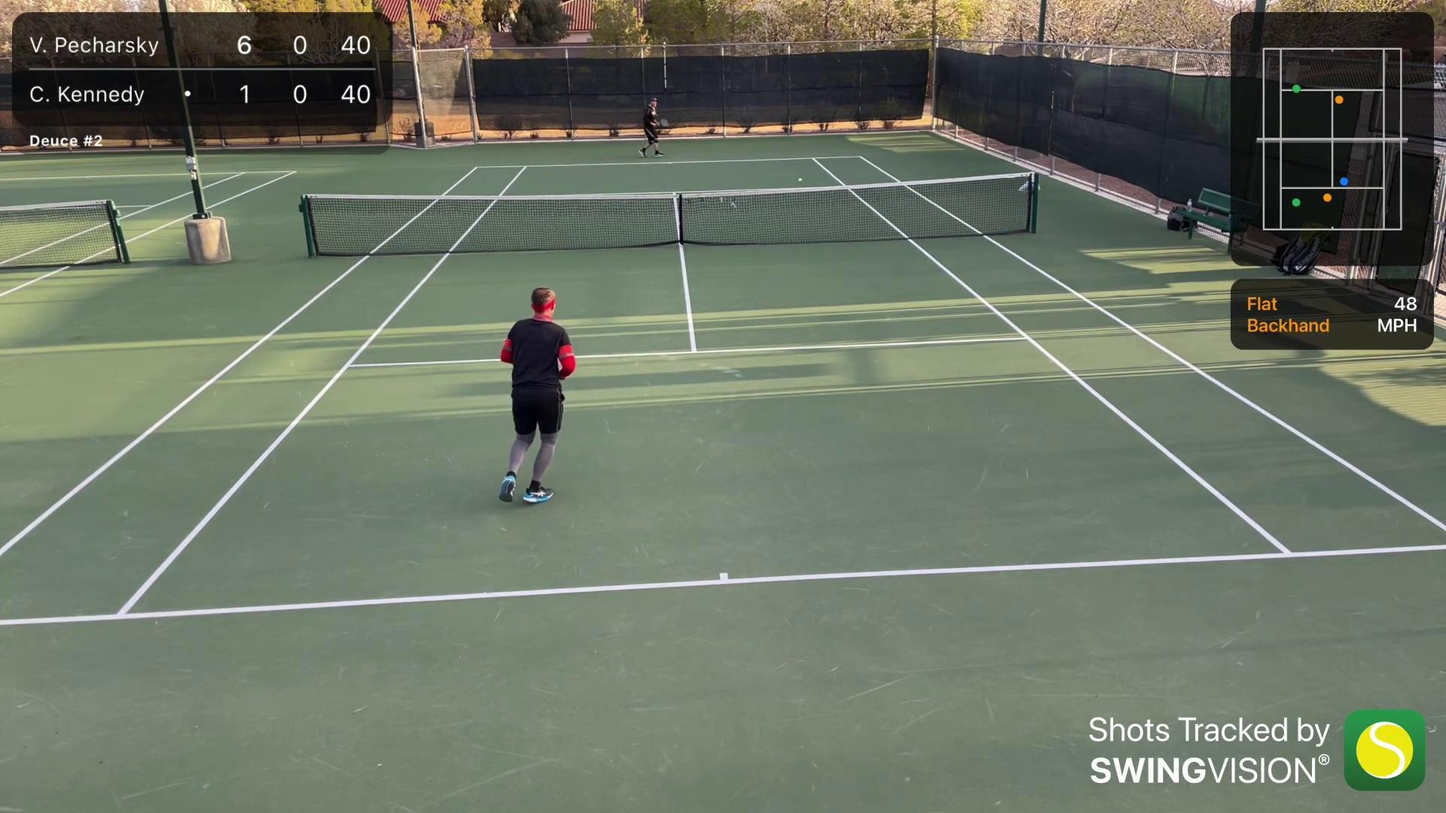ball: (796, 177, 803, 183)
